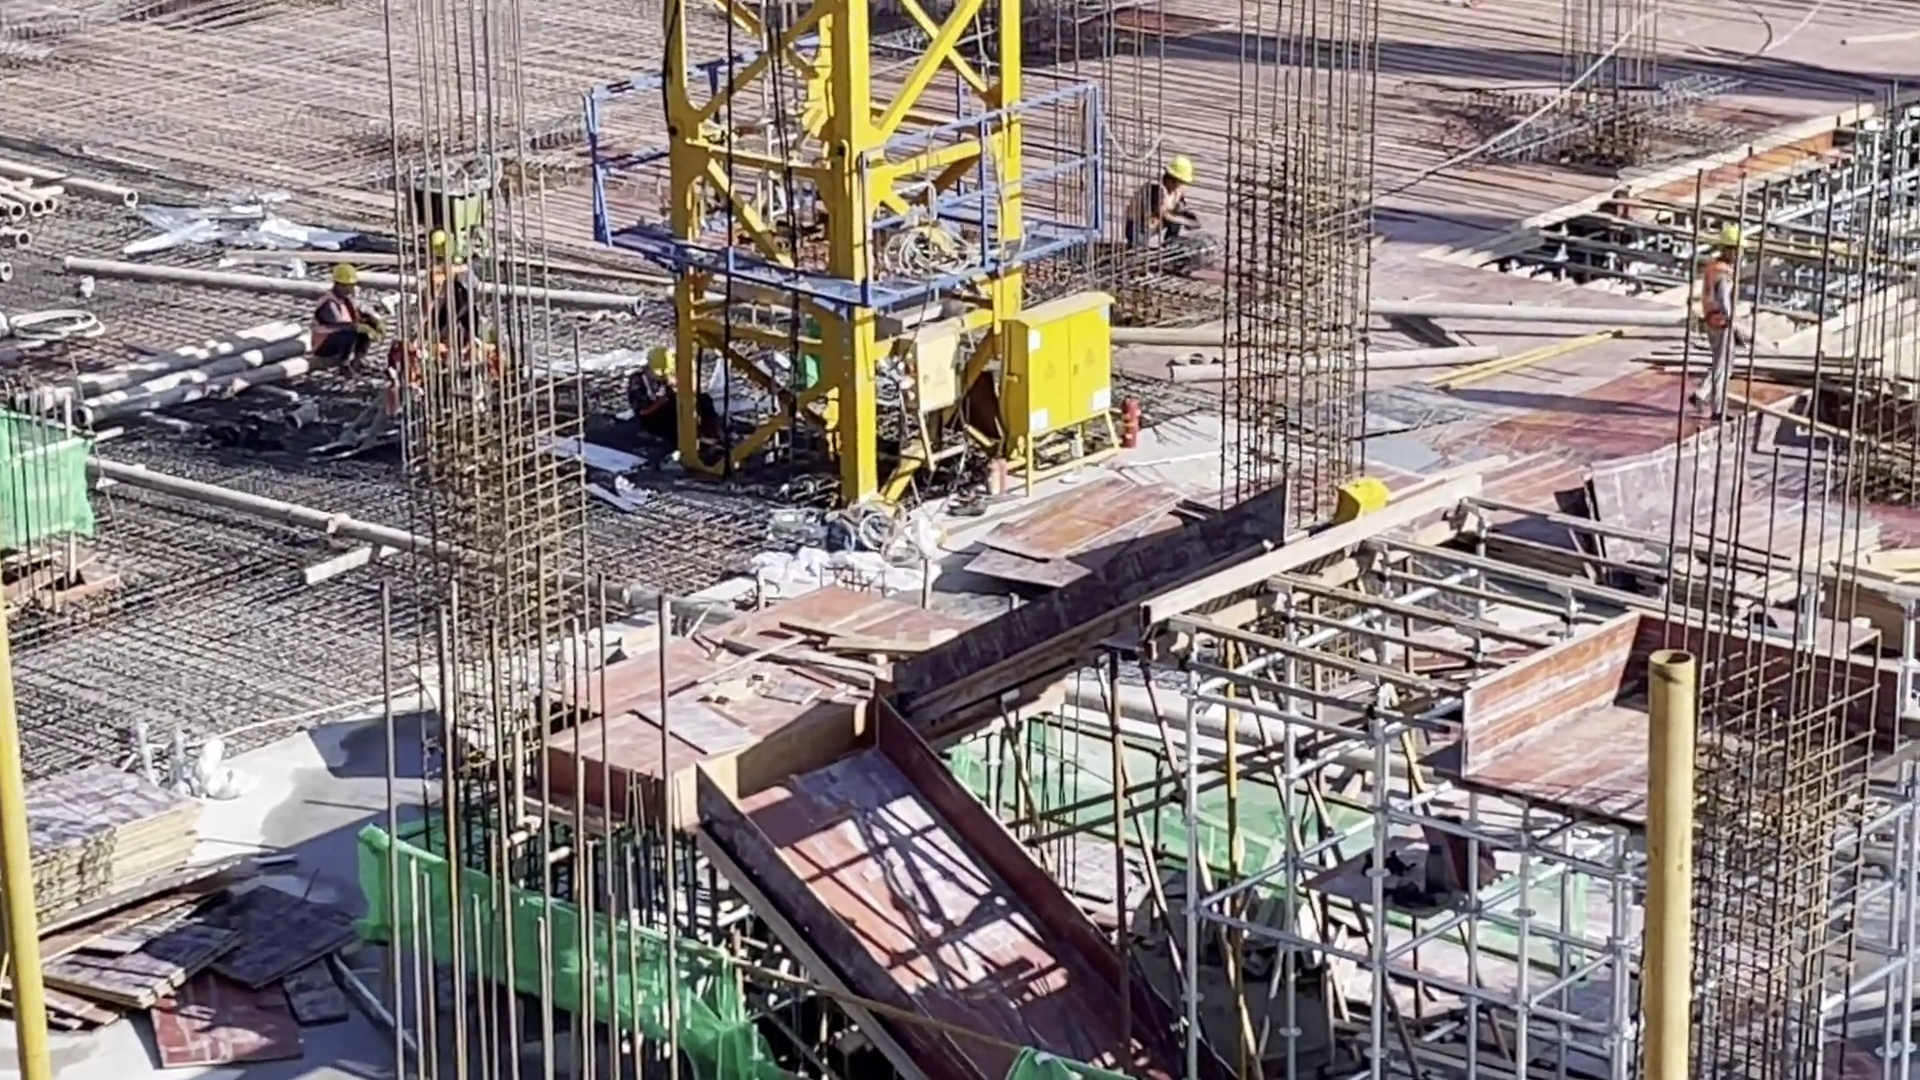board: (16, 870, 376, 1079), (1, 750, 206, 963)
ebox: (993, 291, 1117, 485), (893, 320, 969, 483), (1333, 473, 1395, 523)
helmet: (1162, 150, 1196, 184), (326, 260, 366, 288), (644, 345, 678, 377), (1716, 225, 1746, 250)
person: (1690, 229, 1750, 425), (301, 263, 386, 379), (1123, 150, 1202, 254), (628, 343, 676, 456)
vest: (1122, 177, 1179, 246), (1692, 262, 1740, 338), (308, 294, 350, 360)
